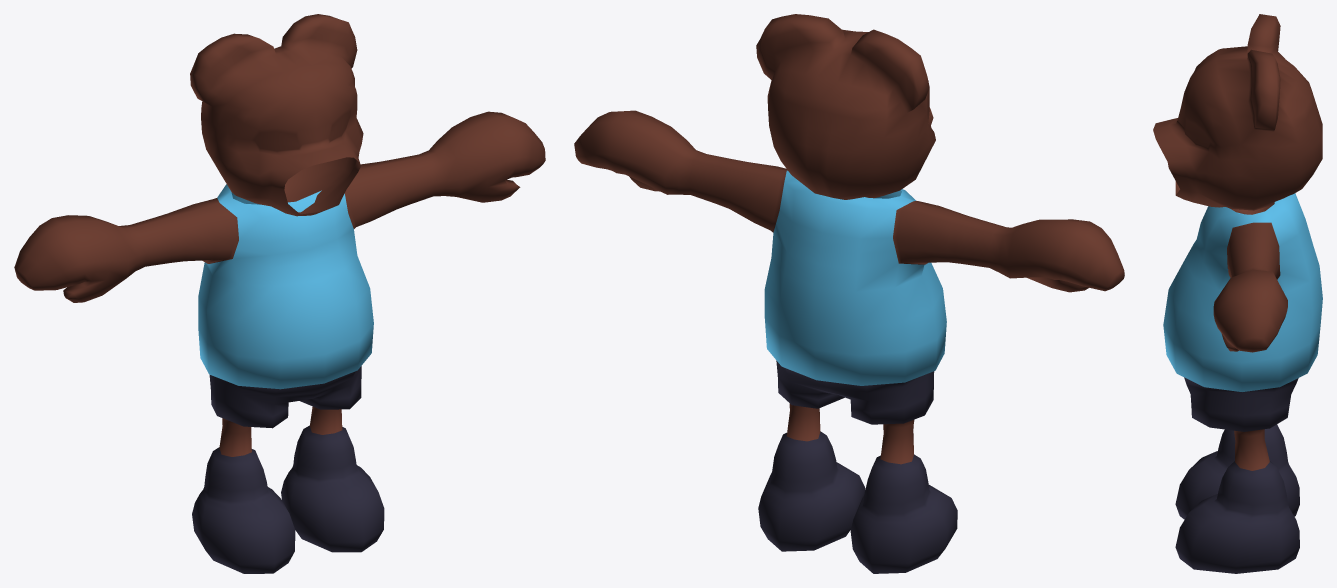
Rendered from personagem1 (1).fbx.
The picture shows the model from 3 angles, left to right: view 1: azimuth 30°, elevation 25°; view 2: azimuth 150°, elevation 25°; view 3: azimuth 270°, elevation 25°; orthographic projection. The views are drawn at different scales.
Parts seen in each view (by area): view 1: bear; view 2: bear; view 3: bear.
Boxes of the visible parts, left/top/right/bottom form: bear: left=14, top=14, right=545, bottom=573; bear: left=574, top=14, right=1124, bottom=573; bear: left=1153, top=14, right=1322, bottom=573.
Bounding box in the file's own units: 45.75 × 42.14 × 12.98.
